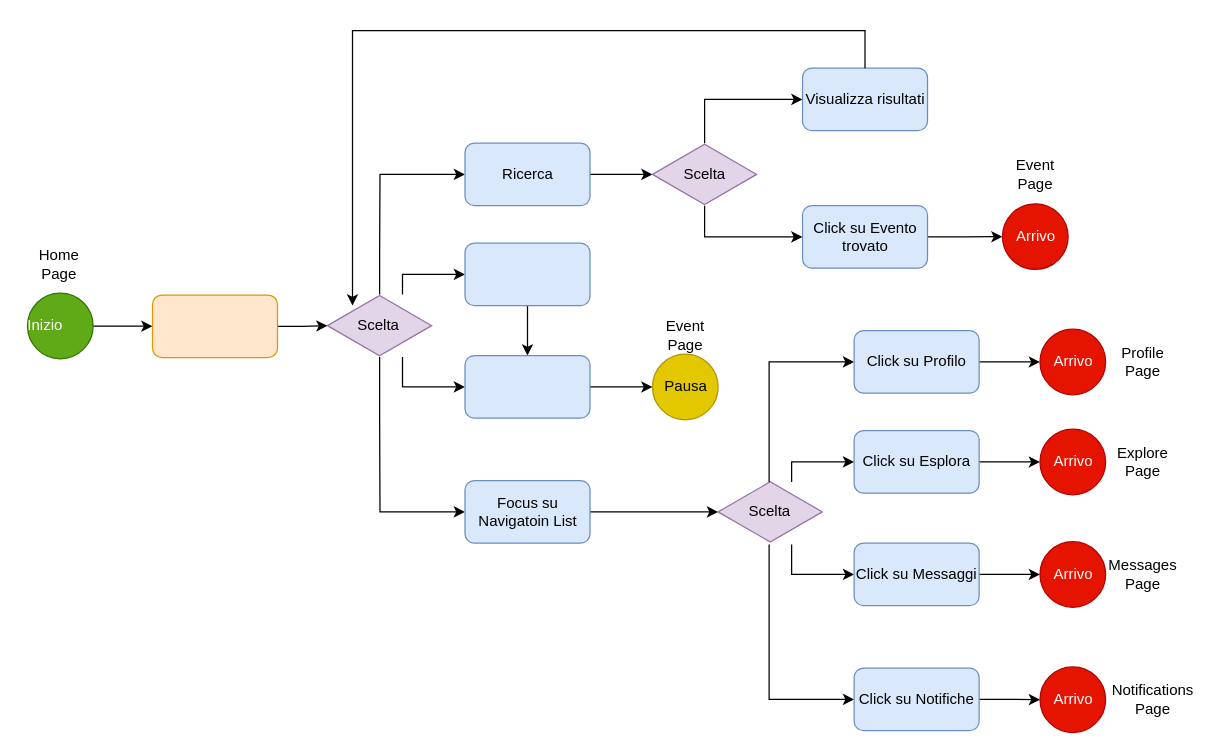
This 1214x755 diagram has some shape labels left out. The shapes that lost their labels are listed below. From the top down, each one's centre as x and y in pixels, then its label:
At pixel 527 274: "Scroll".
At pixel 214 326: "Home Page con Eventi".
At pixel 527 386: "Focus su Evento".
